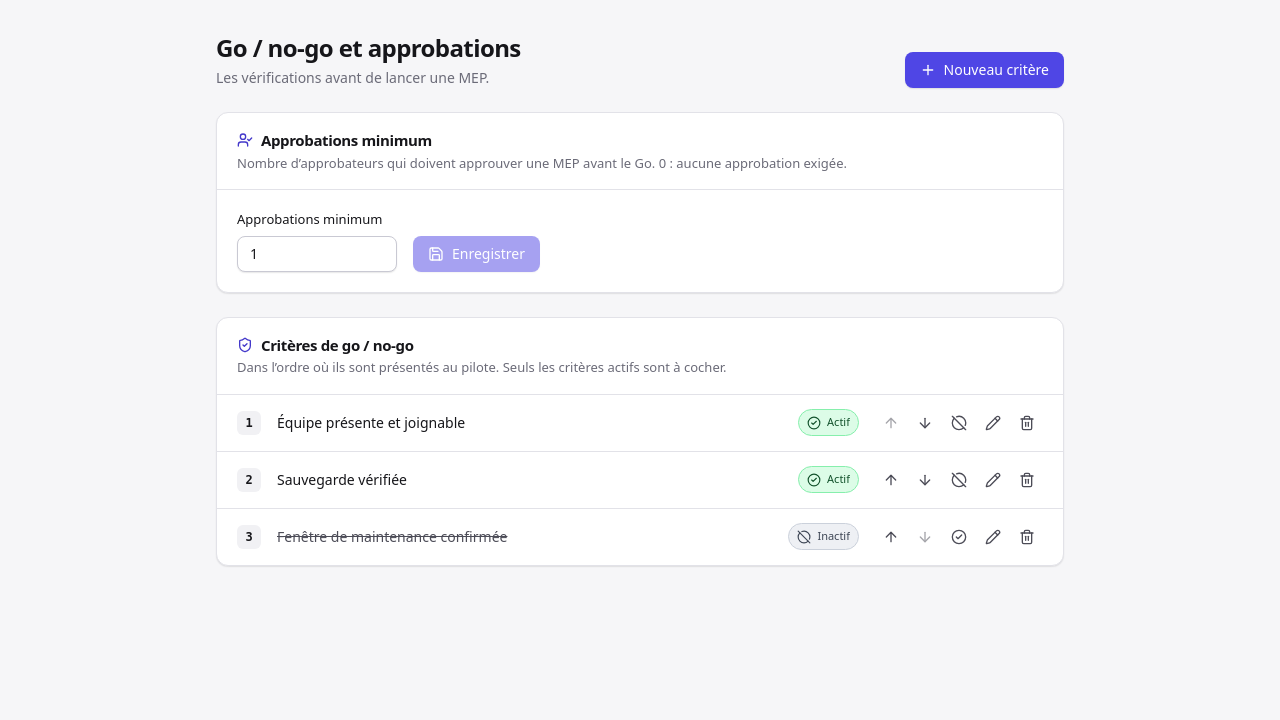
Scenario: GoNoGoPage : critères de go / no-go et approbations minimum › refus du serveur : le message reste dans le dialogue, rien n’est fermé
This screenshot has width=1280, height=720.
Expected: the text "Équipe présente et joignable" is shown, [277,413,465,432]
Step 1. Click the button "Nouveau critère" → x=984, y=70, box [905,52,1064,88]
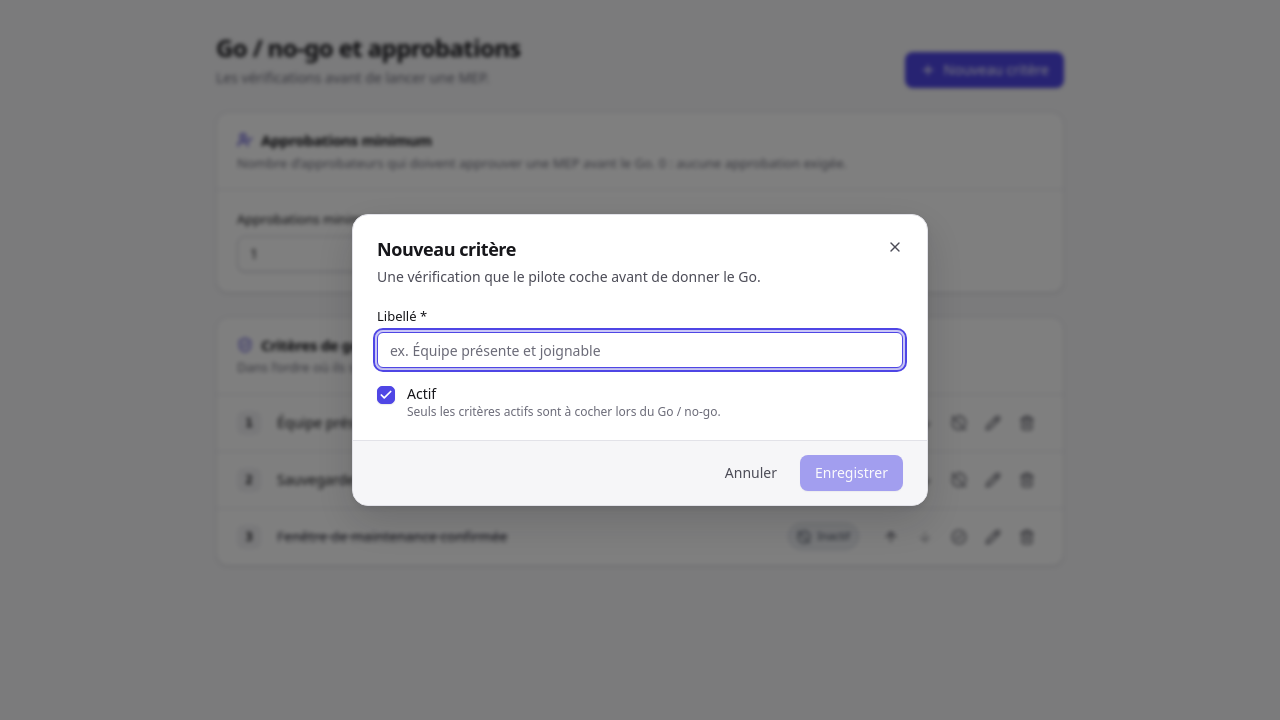
Step 2. Type "Sauvegarde vérifiée" into the field labelled "Libellé *" → x=640, y=350, box [377,332,903,368]
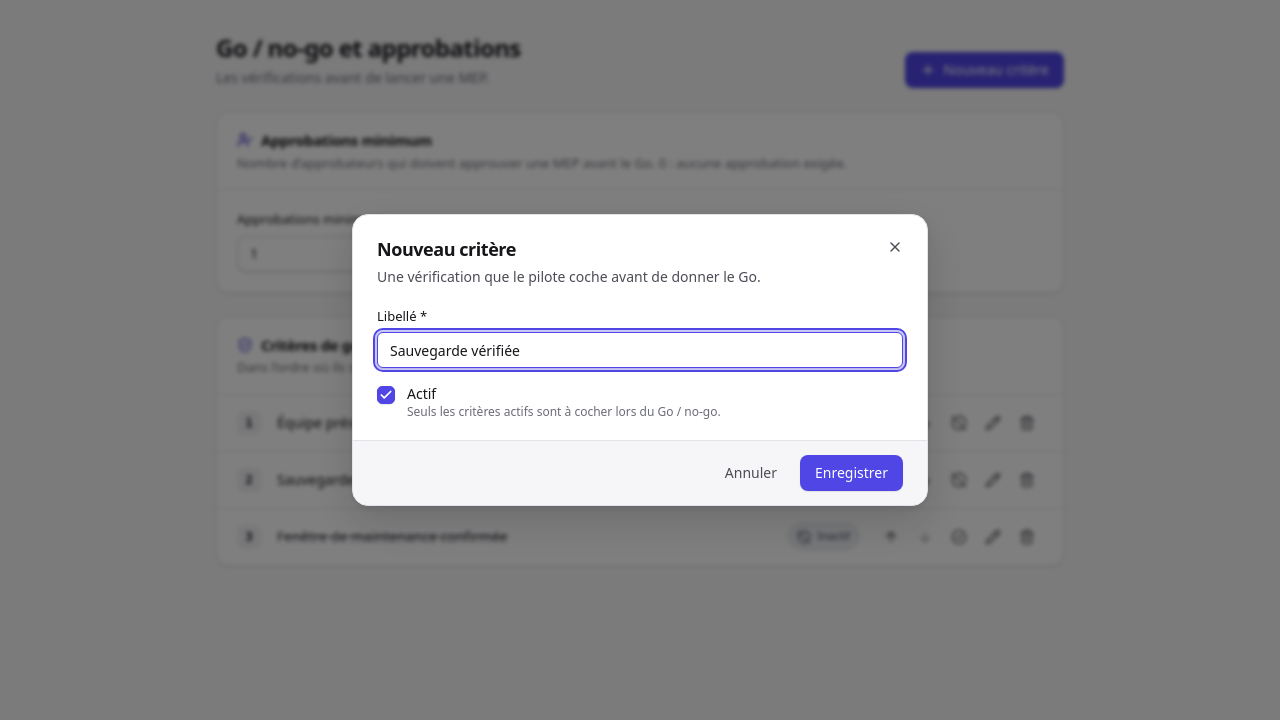
Step 3. Click the button "Enregistrer" → x=852, y=473, box [800,455,903,491]
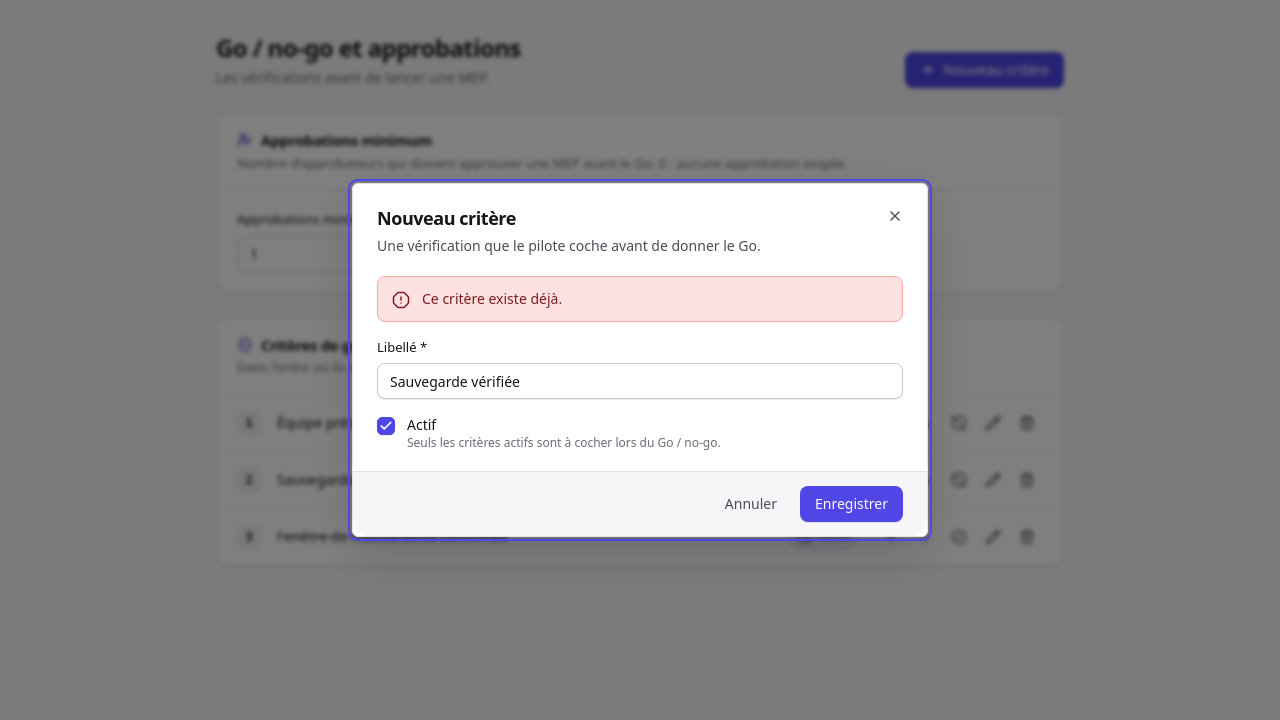
Expected: the dialog "Nouveau critère" is shown, [352,183,928,537]
Expected: the message reads "Ce critère existe déjà.", [422,289,562,308]
